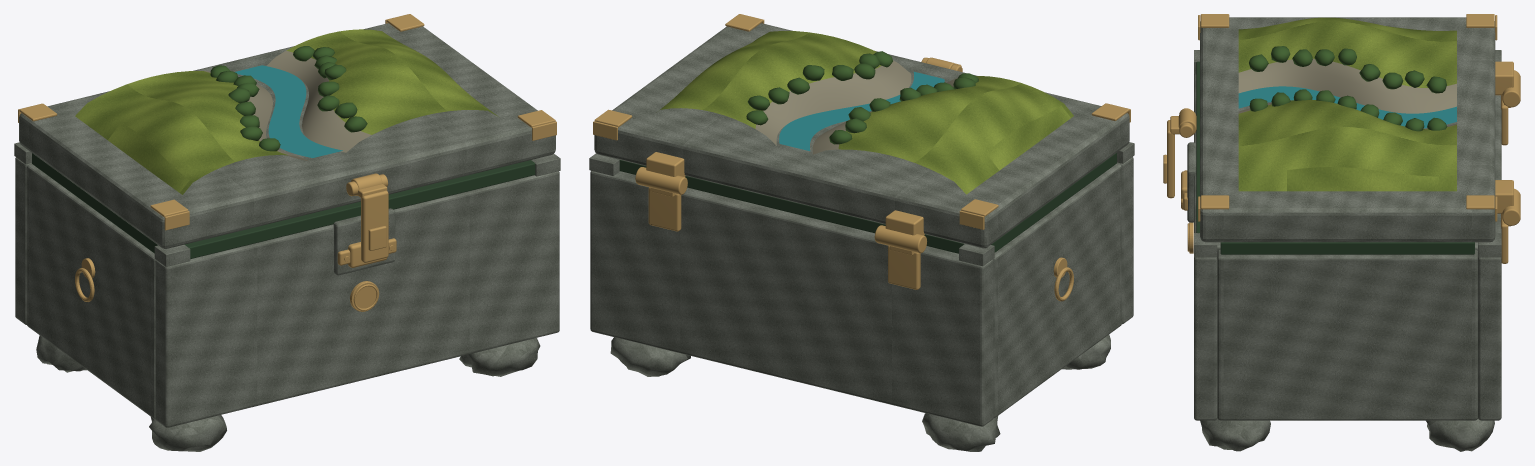
File: uruguay.glb
3 renders of one model, left to right at view 1: azimuth 30°, elevation 25°; view 2: azimuth 150°, elevation 25°; view 3: azimuth 270°, elevation 25°, orthographic.
Parts seen in each view (by area): view 1: Mineral body / long, Lid / polished slab, Mineral body / end, Terrain / grassland bank -1, Terrain / grassland bank 1, Mineral seam / long, Terrain / Yerbal stream, Mineral foot, Mineral foot.002, Mineral body / long.001, Latch / lifting hasp, Mineral / clasp seat (+4 smaller); view 2: Mineral body / long.001, Lid / polished slab, Mineral body / end, Terrain / grassland bank -1, Terrain / grassland bank 1, Mineral seam / long.001, Terrain / Yerbal stream, Mineral foot.001, Mineral body / long, Mineral foot.003, Mineral seam / side, Hinge / fixed mount.001 (+8 smaller); view 3: Mineral body / end.001, Lid / polished slab, Terrain / grassland bank 1, Terrain / grassland bank -1, Mineral body / long.001, Mineral body / long, Mineral seam / side.001, Mineral foot.002, Mineral foot.003, Terrain / Yerbal stream, Mineral / clasp seat, Mineral seam / long (+11 smaller).
Part boxes in pixels (x1,y1,x2,y2): Mineral body / long: [155, 171, 559, 427]; Lid / polished slab: [19, 23, 555, 248]; Mineral body / end: [26, 164, 155, 419]; Terrain / grassland bank -1: [75, 71, 308, 194]; Terrain / grassland bank 1: [267, 29, 499, 152]; Mineral seam / long: [184, 160, 535, 258]; Terrain / Yerbal stream: [235, 65, 342, 157]; Mineral foot: [149, 415, 226, 451]; Mineral foot.002: [459, 338, 540, 376]; Mineral body / long.001: [15, 157, 31, 324]; Latch / lifting hasp: [361, 190, 388, 262]; Mineral / clasp seat: [333, 208, 395, 275]; Mineral body / long.001: [590, 170, 993, 426]; Lid / polished slab: [594, 23, 1129, 248]; Mineral body / end: [993, 163, 1121, 418]; Terrain / grassland bank -1: [812, 76, 1073, 194]; Terrain / grassland bank 1: [656, 31, 911, 145]; Mineral seam / long.001: [619, 160, 964, 253]; Terrain / Yerbal stream: [779, 71, 944, 151]; Mineral foot.001: [922, 413, 1000, 451]; Mineral body / long: [1117, 157, 1133, 324]; Mineral foot.003: [610, 337, 690, 376]; Mineral seam / side: [991, 153, 1116, 252]; Hinge / fixed mount.001: [648, 187, 681, 231]; Mineral body / end.001: [1217, 249, 1477, 420]; Lid / polished slab: [1200, 17, 1495, 242]; Terrain / grassland bank 1: [1238, 99, 1456, 191]; Terrain / grassland bank -1: [1238, 17, 1456, 113]; Mineral body / long.001: [1478, 95, 1501, 420]; Mineral body / long: [1194, 74, 1217, 420]; Mineral seam / side.001: [1220, 242, 1474, 254]; Mineral foot.002: [1200, 418, 1270, 451]; Mineral foot.003: [1426, 419, 1494, 451]; Terrain / Yerbal stream: [1238, 86, 1456, 128]; Mineral / clasp seat: [1187, 142, 1196, 222]; Mineral seam / long: [1196, 61, 1199, 232].
Size of the model in its own units: 3.79 by 2.65 by 2.88.
Materials: 8 (3 with a texture image).
